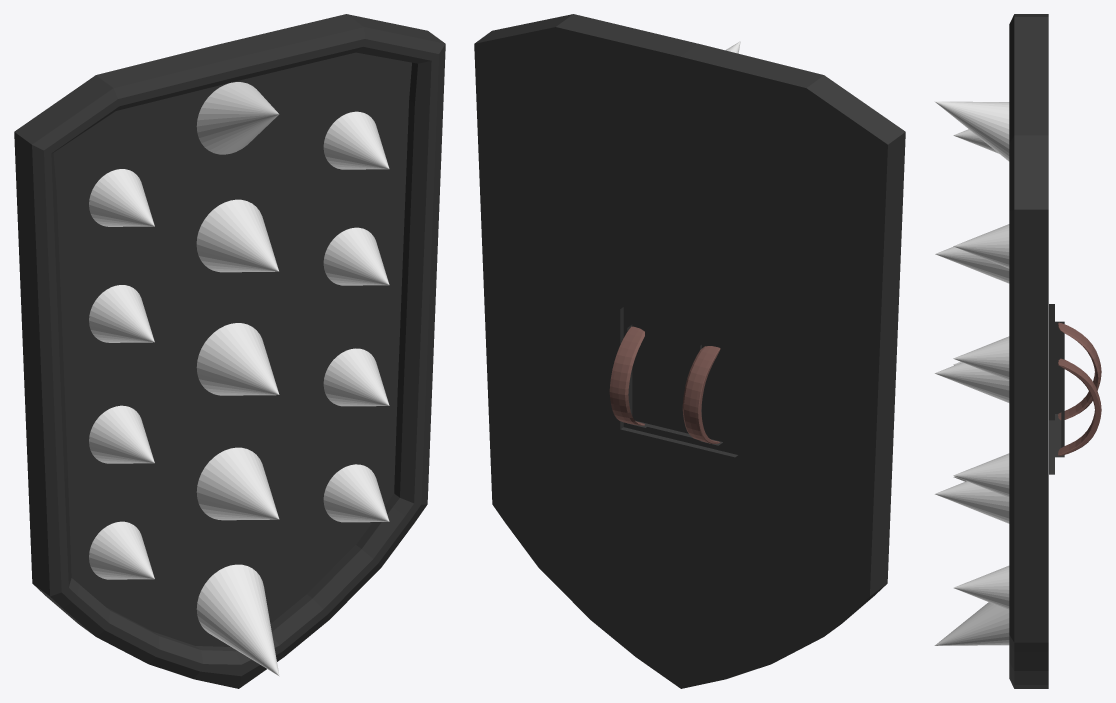
File: Thicc_Shield_v1.fbx
3 views of the same model, side by side, from view 1: azimuth 30°, elevation 25°; view 2: azimuth 150°, elevation 25°; view 3: azimuth 270°, elevation 25° (orthographic). The views are drawn at different scales.
Visible parts, largest first — view 1: Plane, Cone.001, Cone.002, Cone.004, Cone.003, Cone, Cone.006, Cone.005, Cone.012, Cone.007, Cone.011, Cone.008 (+2 smaller); view 2: Plane, Plane.002, Plane.001; view 3: Plane, Cone, Plane.002, Plane.001, Cone.001, Cone.004, Cone.002, Cone.006, Cone.008, Cone.007, Cone.005, Cone.003 (+1 smaller).
Part boxes in pixels (x1=…): Plane: x1=14, y1=14, x2=445, y2=688; Cone.001: x1=196, y1=564, x2=279, y2=675; Cone.002: x1=196, y1=323, x2=279, y2=395; Cone.004: x1=196, y1=447, x2=279, y2=520; Cone.003: x1=196, y1=199, x2=278, y2=272; Cone: x1=196, y1=82, x2=279, y2=154; Cone.006: x1=323, y1=227, x2=389, y2=285; Cone.005: x1=323, y1=111, x2=389, y2=169; Cone.012: x1=89, y1=521, x2=154, y2=579; Cone.007: x1=323, y1=348, x2=389, y2=406; Cone.011: x1=89, y1=405, x2=154, y2=463; Cone.008: x1=323, y1=464, x2=389, y2=522; Plane: x1=474, y1=14, x2=905, y2=688; Plane.002: x1=620, y1=307, x2=738, y2=457; Plane.001: x1=609, y1=326, x2=720, y2=443; Plane: x1=1009, y1=14, x2=1048, y2=688; Cone: x1=935, y1=101, x2=1009, y2=161; Plane.002: x1=1049, y1=304, x2=1064, y2=474; Plane.001: x1=1058, y1=322, x2=1101, y2=455; Cone.001: x1=934, y1=602, x2=1009, y2=645; Cone.004: x1=935, y1=481, x2=1009, y2=523; Cone.002: x1=935, y1=362, x2=1009, y2=402; Cone.006: x1=953, y1=336, x2=1009, y2=380; Cone.008: x1=953, y1=565, x2=1009, y2=609; Cone.007: x1=953, y1=453, x2=1009, y2=497; Cone.005: x1=953, y1=224, x2=1009, y2=268; Cone.003: x1=935, y1=246, x2=1009, y2=283.
Size of the model in its own units: 106 by 155 by 38.45.
